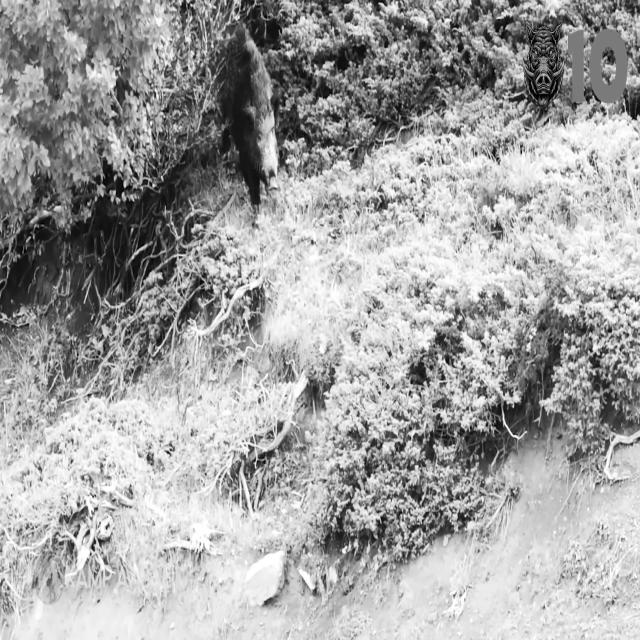boar: (218, 23, 279, 214)
